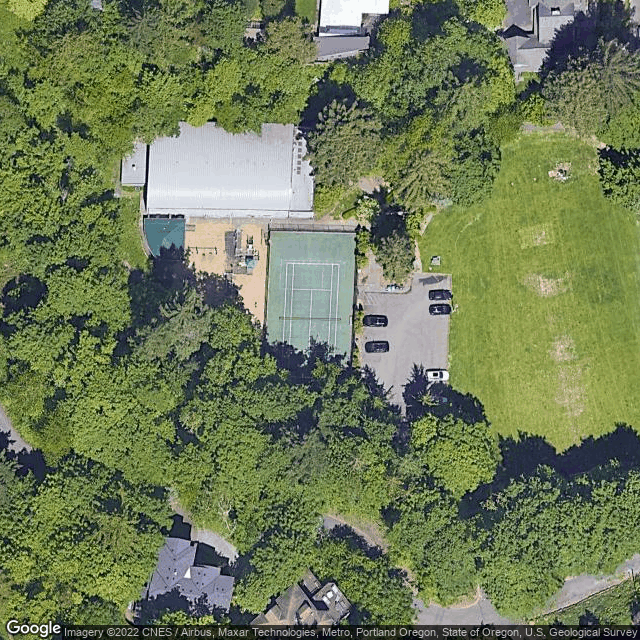Court: (279, 261, 341, 384)
